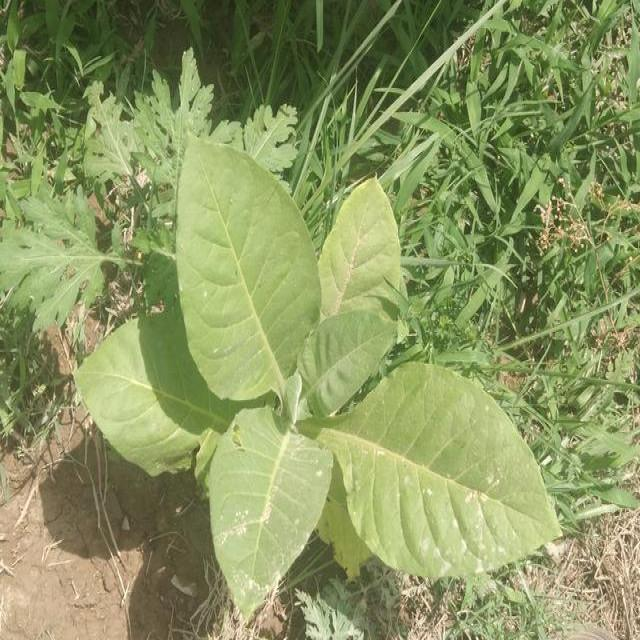crop: (73, 137, 566, 620)
